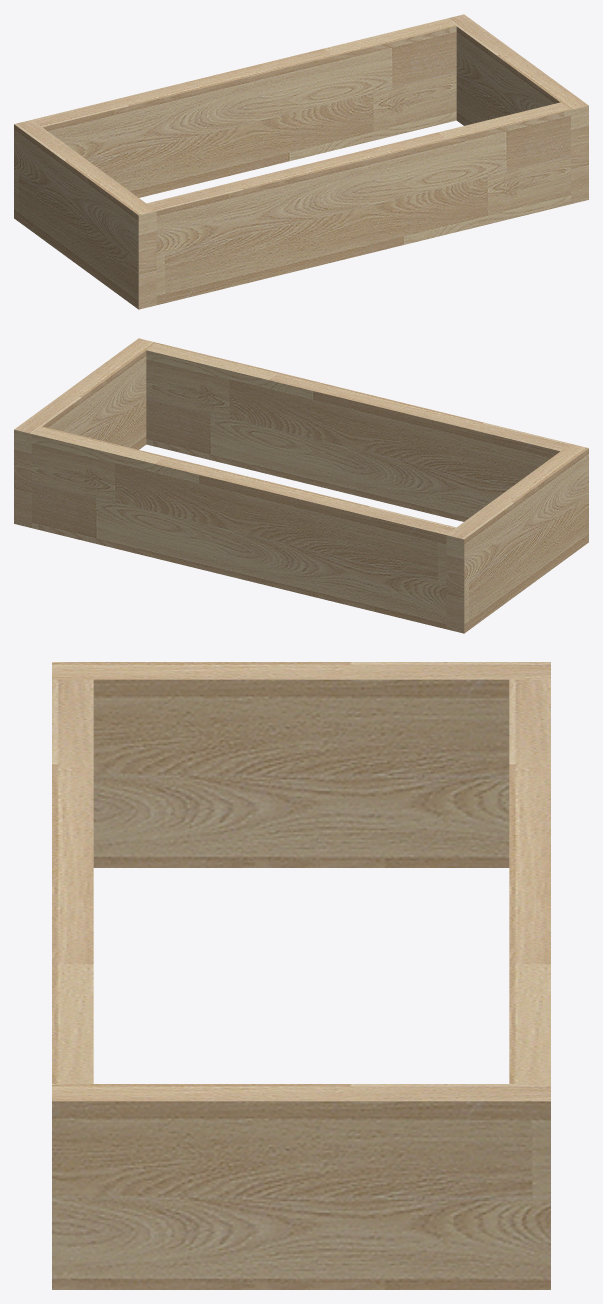
3 views of the same model, one above another, from view 1: azimuth 30°, elevation 25°; view 2: azimuth 150°, elevation 25°; view 3: azimuth 270°, elevation 25° (orthographic). The views are drawn at different scales.
Visible parts, largest first — view 1: Sokkel front_back.003; view 2: Sokkel front_back.003; view 3: Sokkel front_back.003.
Part boxes in pixels (x1=…): Sokkel front_back.003: x1=14, y1=14, x2=588, y2=309; Sokkel front_back.003: x1=14, y1=338, x2=588, y2=633; Sokkel front_back.003: x1=52, y1=662, x2=550, y2=1289.
Size of the model in its own units: 0.5 by 0.1 by 0.24.
1 material, 1 textured.
